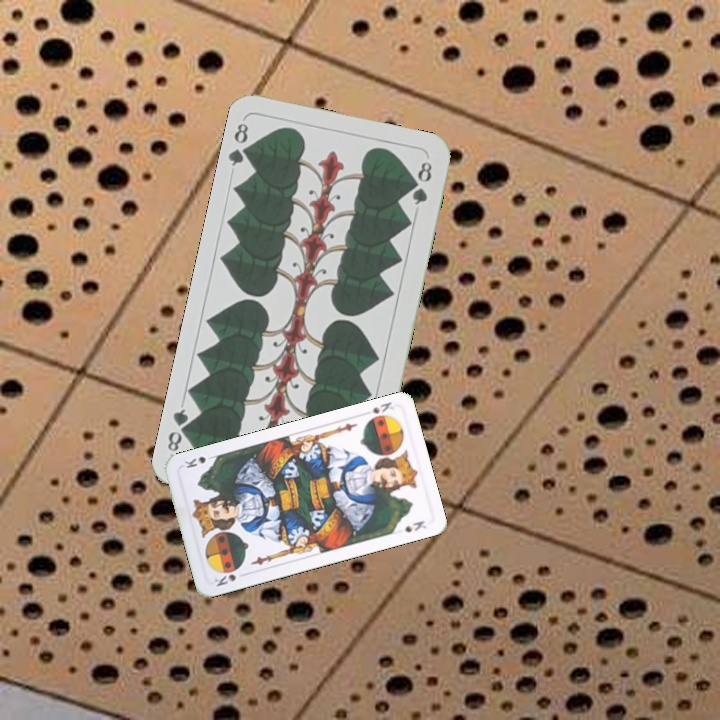G8: (225, 119, 256, 169)
SK: (210, 565, 242, 589), (368, 398, 396, 416)
